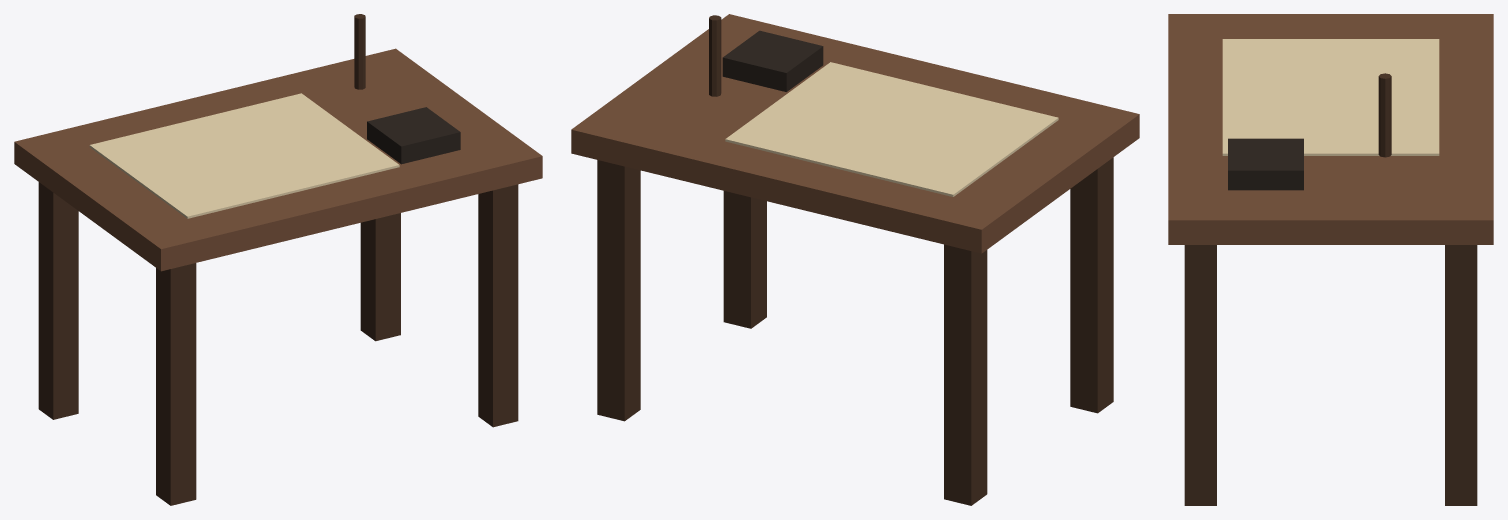
The model's file is station_engraving.glb.
3 views of the same model, side by side, from view 1: azimuth 30°, elevation 25°; view 2: azimuth 150°, elevation 25°; view 3: azimuth 270°, elevation 25° (orthographic). The views are drawn at different scales.
Parts seen in each view (by area): view 1: STATION_Engraving; view 2: STATION_Engraving; view 3: STATION_Engraving.
Boxes of the visible parts, x1,y1,x2,y2 form: STATION_Engraving: (14,14,542,505); STATION_Engraving: (571,14,1139,505); STATION_Engraving: (1168,14,1493,505).
Bounding box in the file's own units: 0.9 × 0.8 × 0.6.
